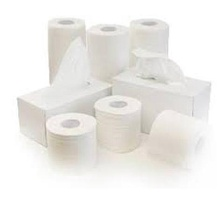book: (109, 65, 214, 136), (14, 78, 114, 150)
tissue: (146, 108, 216, 173), (42, 111, 100, 177), (91, 93, 144, 155), (83, 20, 134, 82), (45, 14, 87, 88), (47, 32, 95, 92), (126, 45, 190, 88), (125, 13, 172, 58)
